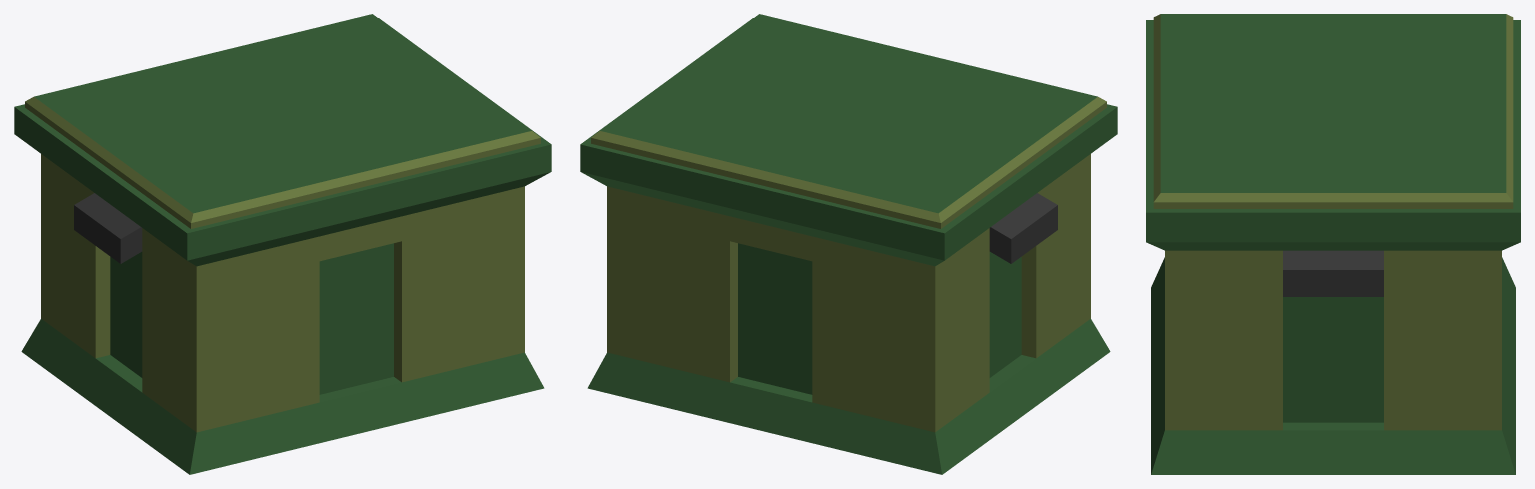
Rendered from ammo_big.fbx.
The picture shows the model from 3 angles, left to right: view 1: azimuth 30°, elevation 25°; view 2: azimuth 150°, elevation 25°; view 3: azimuth 270°, elevation 25°; orthographic projection. The views are drawn at different scales.
Visible parts, largest first — view 1: pCube1; view 2: pCube1; view 3: pCube1.
Part boxes in pixels (bbox=[...]): pCube1: bbox=[14, 14, 551, 474]; pCube1: bbox=[580, 14, 1117, 474]; pCube1: bbox=[1146, 14, 1520, 474].
Bounding box in the file's own units: 23.83 × 15.72 × 19.23.
